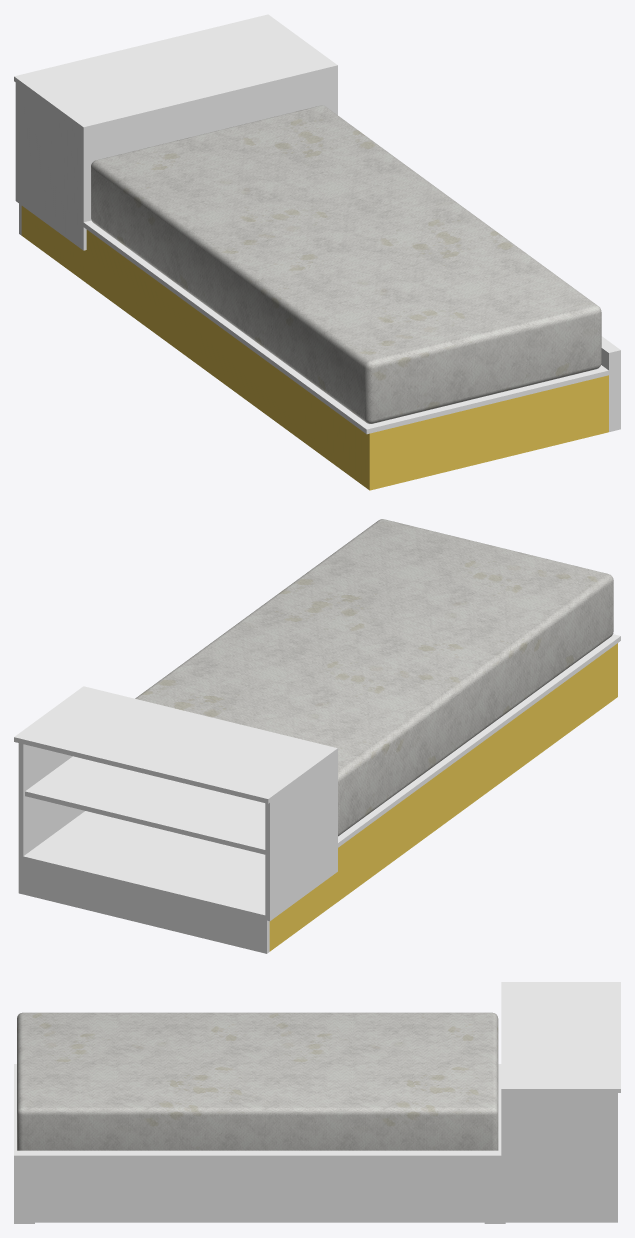
The model's file is twin-bed.glb.
3 views of the same model, one above another, from view 1: azimuth 30°, elevation 25°; view 2: azimuth 150°, elevation 25°; view 3: azimuth 270°, elevation 25° (orthographic). The views are drawn at different scales.
Parts seen in each view (by area): view 1: mattress-twin-xl, foot-shelf-top, rail-bottom-right, rail-bottom-head, foot-shelf-back, foot-shelf-right, platform-twin-xl, frame-shelf-bottom-right, rail-bottom-left; view 2: mattress-twin-xl, foot-shelf-top, rail-bottom-right, foot-shelf-bottom, foot-shelf-shelf, foot-shelf-right, foot-shelf-front, foot-shelf-left, platform-twin-xl, frame-shelf-bottom-right; view 3: mattress-twin-xl, rail-bottom-left, foot-shelf-left, foot-shelf-top, molding-rail-top, molding-rail-side-foot, molding-rail-side-head, platform-twin-xl.
Boxes of the visible parts, left/top/right/bottom form: mattress-twin-xl: left=91, top=105, right=601, bottom=423; foot-shelf-top: left=14, top=14, right=337, bottom=131; rail-bottom-right: left=86, top=230, right=378, bottom=490; rail-bottom-head: left=375, top=375, right=608, bottom=488; foot-shelf-back: left=81, top=70, right=337, bottom=250; foot-shelf-right: left=15, top=82, right=80, bottom=248; platform-twin-xl: left=83, top=220, right=608, bottom=434; frame-shelf-bottom-right: left=21, top=206, right=86, bottom=282; rail-bottom-left: left=601, top=353, right=617, bottom=431; mattress-twin-xl: left=135, top=519, right=613, bottom=836; foot-shelf-top: left=14, top=686, right=337, bottom=803; rail-bottom-right: left=334, top=643, right=617, bottom=903; foot-shelf-bottom: left=23, top=811, right=266, bottom=919; foot-shelf-shelf: left=25, top=756, right=265, bottom=854; foot-shelf-right: left=265, top=755, right=335, bottom=921; foot-shelf-front: left=23, top=861, right=269, bottom=953; foot-shelf-left: left=18, top=743, right=84, bottom=894; platform-twin-xl: left=338, top=634, right=620, bottom=847; frame-shelf-bottom-right: left=269, top=874, right=334, bottom=951; mattress-twin-xl: left=17, top=1012, right=498, bottom=1150; rail-bottom-left: left=35, top=1159, right=484, bottom=1222; foot-shelf-left: left=505, top=1093, right=617, bottom=1222; foot-shelf-top: left=501, top=982, right=620, bottom=1092; molding-rail-top: left=14, top=1150, right=501, bottom=1159; molding-rail-side-foot: left=484, top=1159, right=505, bottom=1223; molding-rail-side-head: left=14, top=1159, right=34, bottom=1223; platform-twin-xl: left=14, top=1064, right=501, bottom=1150.
Bounding box in the file's own units: 1.07 × 0.6286 × 2.56.
Materials: 5 (1 with a texture image).
